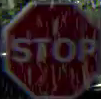Stop: (6, 2, 100, 98)
